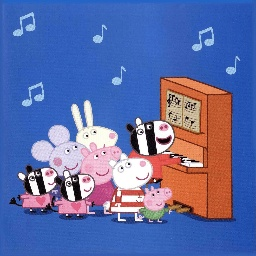Peppa: (78, 142, 122, 205)
